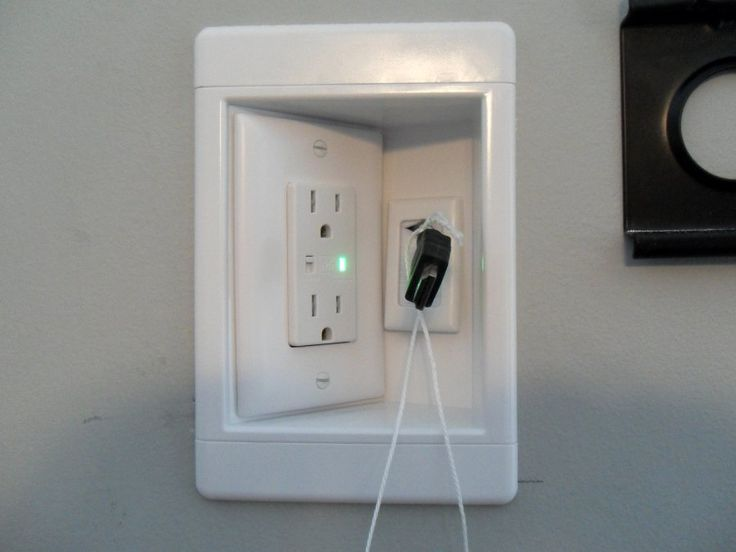outlet: (303, 287, 353, 346), (303, 184, 348, 245)
